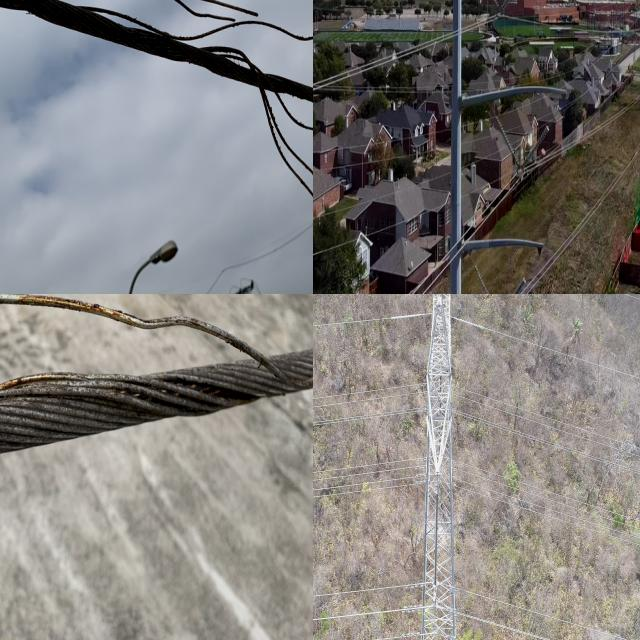杆塔: (401, 294, 493, 640)
正常绝缘子: (516, 117, 553, 174), (493, 111, 525, 173), (472, 263, 493, 294), (510, 273, 529, 294), (493, 0, 511, 17), (490, 0, 504, 17)
电缆破损: (14, 0, 313, 214), (0, 294, 313, 454)
